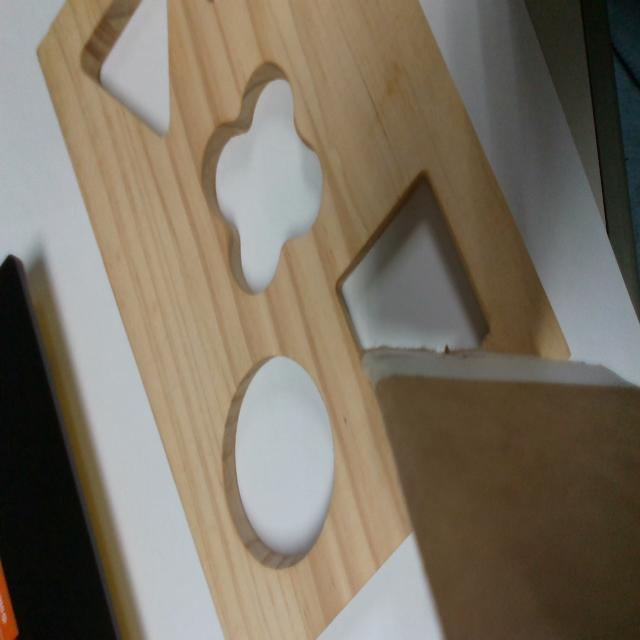circle: (223, 358, 336, 569)
flower: (201, 63, 325, 300)
square: (330, 167, 493, 356)
triangle: (78, 2, 174, 138)
